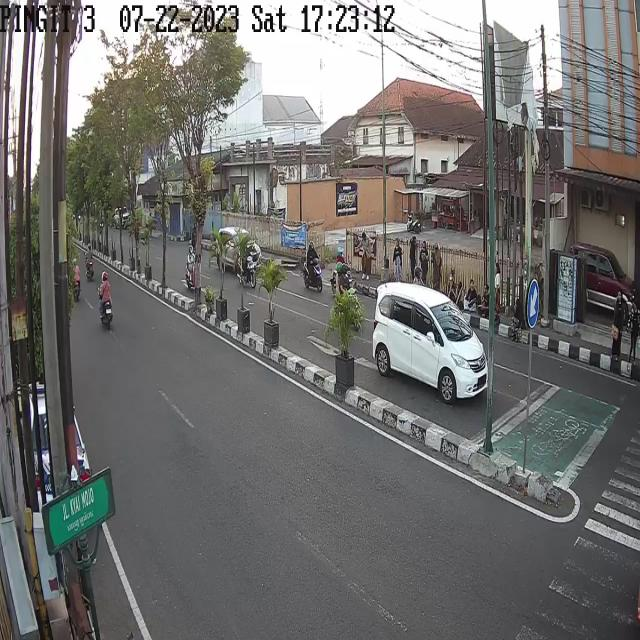car: (373, 277, 490, 405), (573, 244, 635, 308), (217, 228, 260, 276)
motorcycle: (331, 264, 363, 330), (332, 246, 352, 296), (97, 268, 113, 330), (238, 245, 259, 288), (304, 242, 322, 292), (186, 243, 201, 291), (72, 261, 82, 303), (85, 243, 94, 282)
